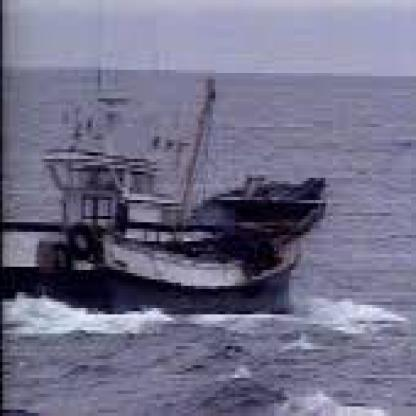fish-b: (0, 73, 331, 328)
